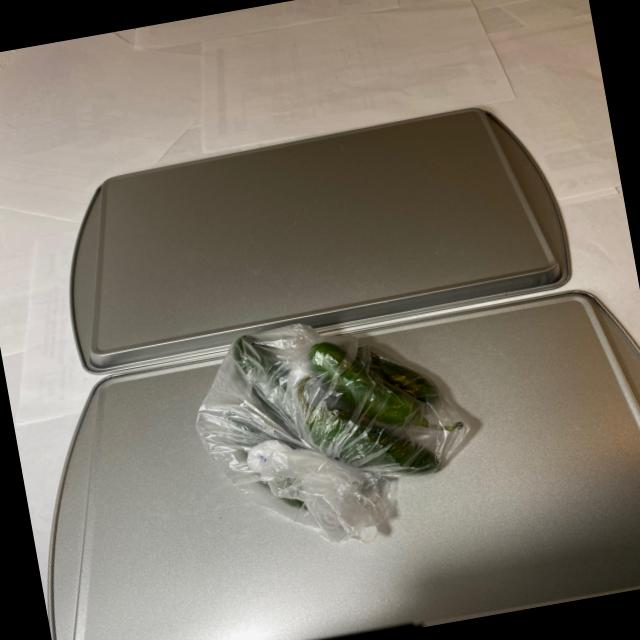chilli: (185, 299, 482, 528)
